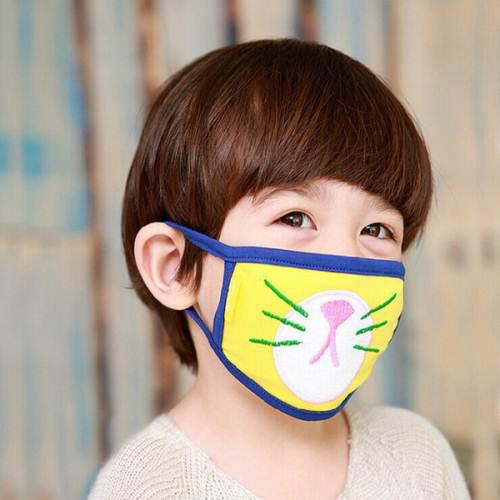OK: (155, 174, 408, 427)
